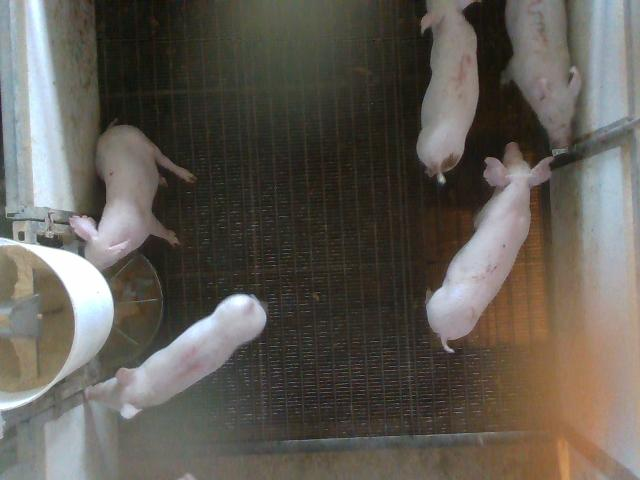pig-3: (502, 0, 581, 154)
pig-4: (86, 294, 266, 419)
pig-5: (416, 0, 479, 184)
